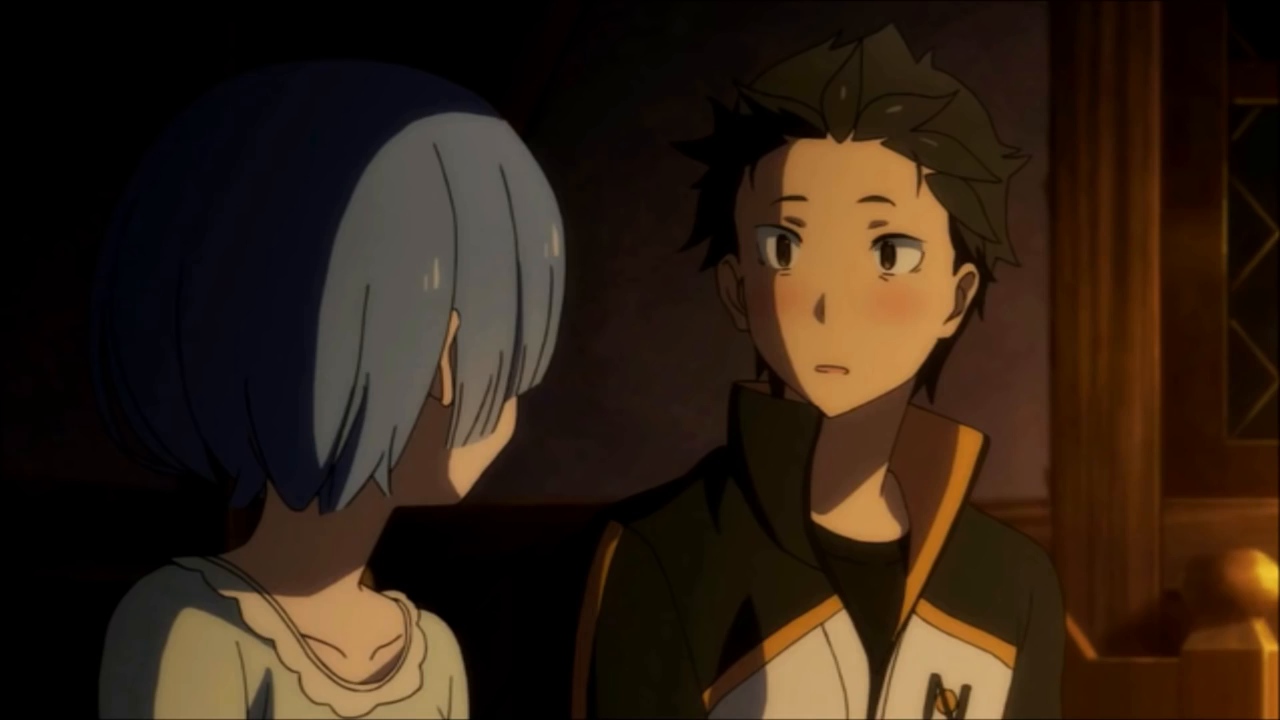REM: (142, 76, 571, 526)
